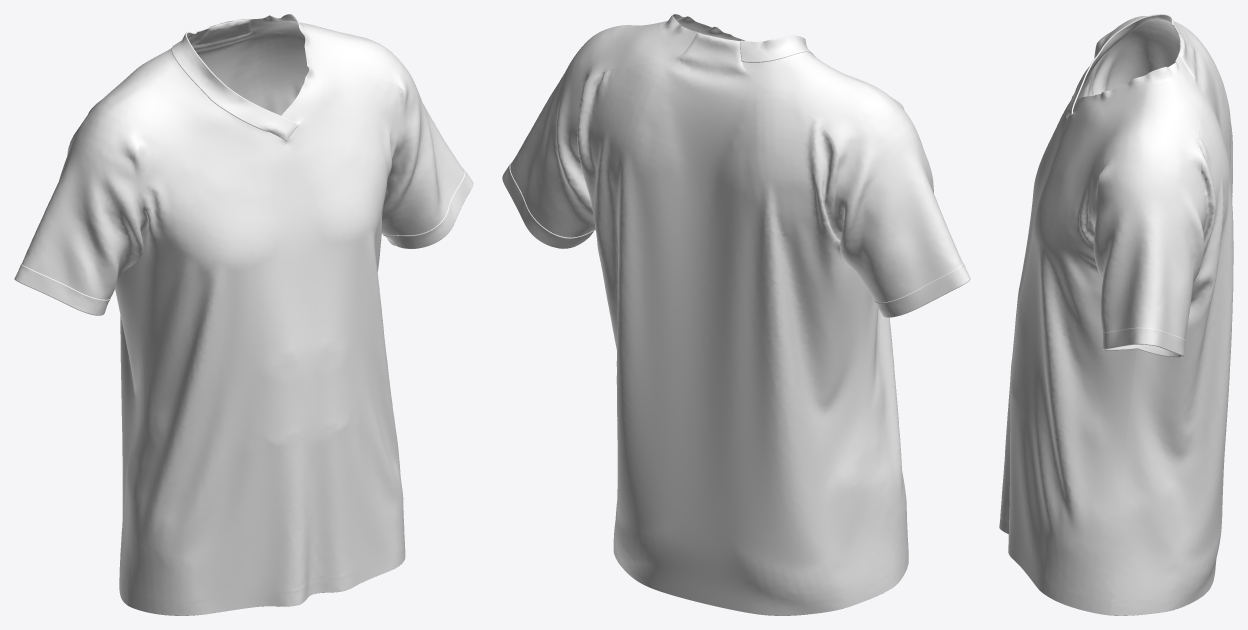
File: mateando.glb
3 views of the same model, side by side, from view 1: azimuth 30°, elevation 25°; view 2: azimuth 150°, elevation 25°; view 3: azimuth 270°, elevation 25° (orthographic). The views are drawn at different scales.
Visible parts, largest first — view 1: FRENTE_Node, MANGA DERECHA_Node, ESPALDA_Node, MANGA IZQUIERDA_Node, CUELLO DERECHO_Node, CUELLO IZQUIERDO_Node, VIVO DERECHO_Node, VIVO IZQUIERDO_Node, SOLAPA_Node; view 2: ESPALDA_Node, MANGA DERECHA_Node, MANGA IZQUIERDA_Node, FRENTE_Node, VIVO DERECHO_Node, VIVO IZQUIERDO_Node, CUELLO DERECHO_Node, CUELLO IZQUIERDO_Node; view 3: FRENTE_Node, ESPALDA_Node, MANGA IZQUIERDA_Node, MANGA DERECHA_Node, CUELLO IZQUIERDO_Node, VIVO IZQUIERDO_Node, CUELLO DERECHO_Node.
Boxes of the visible parts, x1,y1,x2,y2 form: FRENTE_Node: (130, 74, 406, 615); MANGA DERECHA_Node: (22, 41, 210, 299); ESPALDA_Node: (115, 19, 309, 606); MANGA IZQUIERDA_Node: (251, 22, 464, 235); CUELLO DERECHO_Node: (171, 27, 298, 141); CUELLO IZQUIERDO_Node: (250, 14, 322, 124); VIVO DERECHO_Node: (14, 264, 110, 315); VIVO IZQUIERDO_Node: (383, 168, 473, 248); SOLAPA_Node: (191, 19, 252, 45); ESPALDA_Node: (577, 32, 897, 615); MANGA DERECHA_Node: (742, 52, 962, 302); MANGA IZQUIERDA_Node: (510, 22, 686, 237); FRENTE_Node: (861, 280, 908, 583); VIVO DERECHO_Node: (874, 262, 970, 317); VIVO IZQUIERDO_Node: (502, 161, 595, 248); CUELLO DERECHO_Node: (740, 35, 815, 62); CUELLO IZQUIERDO_Node: (659, 14, 745, 49); FRENTE_Node: (999, 42, 1136, 615); ESPALDA_Node: (1110, 34, 1233, 615); MANGA IZQUIERDA_Node: (1093, 71, 1206, 339); MANGA DERECHA_Node: (1092, 16, 1201, 95); CUELLO IZQUIERDO_Node: (1072, 55, 1188, 114); VIVO IZQUIERDO_Node: (1102, 327, 1185, 357); CUELLO DERECHO_Node: (1066, 14, 1188, 117).
Size of the model in its own units: 0.6594 by 0.7529 by 0.3042.
15 materials, 15 textured.
